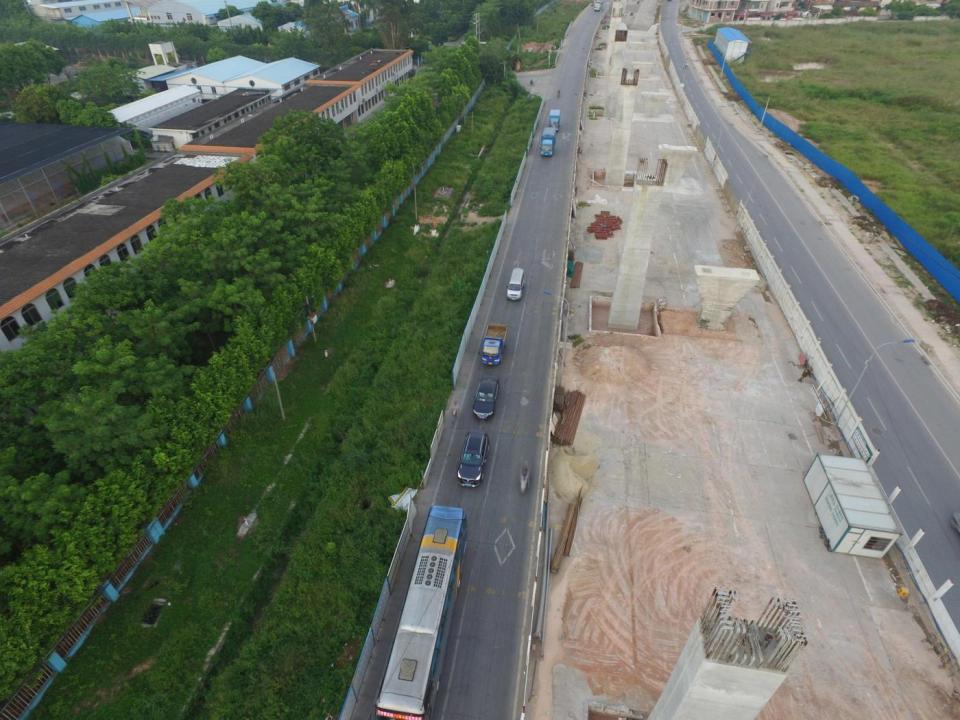bus: (376, 504, 468, 720)
car: (457, 432, 491, 489), (473, 375, 501, 419)
truck: (481, 322, 507, 366), (541, 126, 558, 158), (548, 108, 561, 130), (594, 0, 602, 11)
van: (506, 267, 525, 301)
